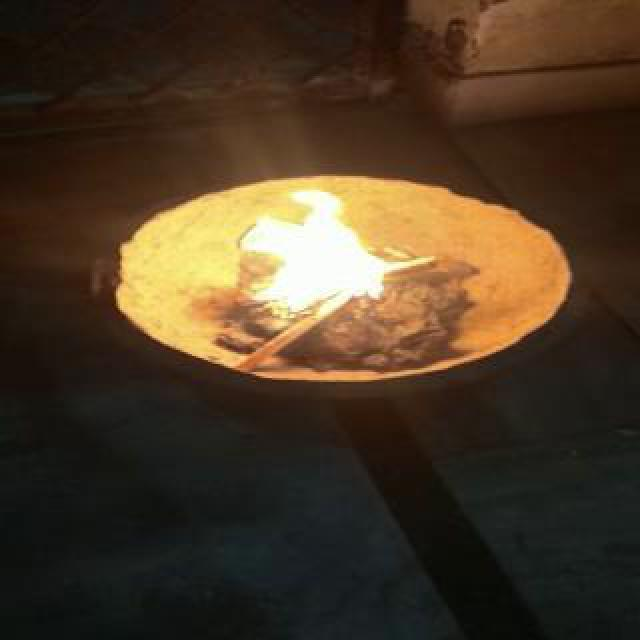Fire: (222, 168, 396, 322)
